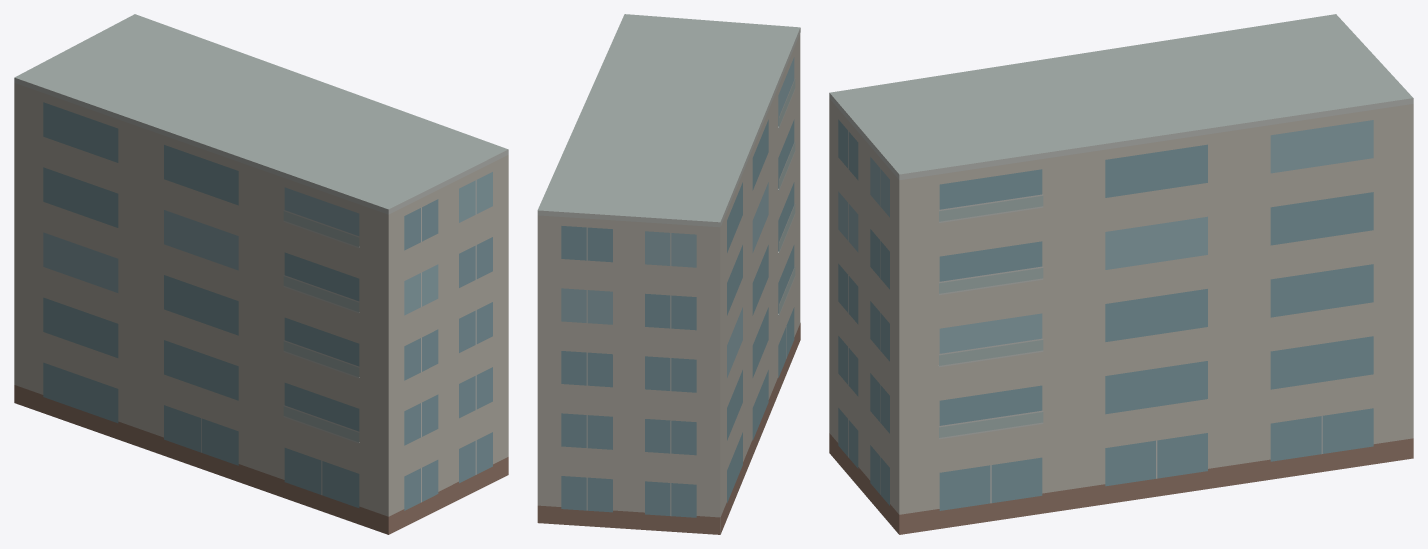
Rendered from survey-upis-32768468.glb.
3 renders of one model, left to right at view 1: azimuth 30°, elevation 25°; view 2: azimuth 150°, elevation 25°; view 3: azimuth 270°, elevation 25°, orthographic. The views are drawn at different scales.
Visible parts, largest first — view 1: survey-upis-32768468.tmp; view 2: survey-upis-32768468.tmp; view 3: survey-upis-32768468.tmp.
Part boxes in pixels (left/top/right/bottom): survey-upis-32768468.tmp: left=14, top=14, right=508, bottom=534; survey-upis-32768468.tmp: left=537, top=14, right=800, bottom=534; survey-upis-32768468.tmp: left=829, top=14, right=1413, bottom=534.
Size of the model in its own units: 14.58 by 15.25 by 22.41.
